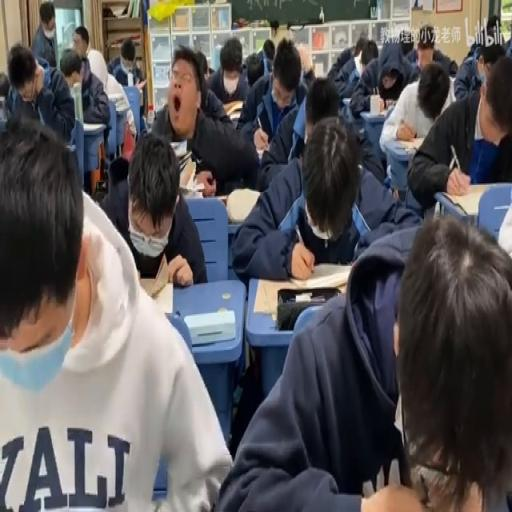calculator: (252, 270, 350, 314), (443, 180, 498, 214), (184, 308, 234, 342), (226, 186, 260, 225), (144, 277, 174, 316), (178, 154, 197, 189), (393, 135, 424, 152), (222, 100, 244, 120), (170, 138, 187, 159), (181, 184, 203, 199), (209, 192, 228, 208), (107, 91, 125, 107), (82, 118, 102, 132), (446, 74, 457, 98), (152, 42, 168, 58), (361, 110, 386, 120), (134, 77, 146, 91), (254, 144, 264, 160), (313, 60, 322, 77), (341, 94, 350, 105)
paper: (348, 206, 510, 511), (230, 106, 410, 284), (99, 132, 206, 286), (409, 51, 512, 209), (6, 41, 72, 144), (331, 35, 379, 104), (206, 37, 248, 109), (408, 24, 455, 81), (302, 74, 339, 141), (106, 33, 144, 91), (30, 0, 57, 68), (497, 188, 512, 260), (378, 68, 404, 106), (480, 43, 505, 71), (245, 51, 264, 87), (71, 26, 88, 60), (398, 27, 414, 55), (485, 14, 501, 41), (194, 50, 208, 78), (38, 57, 50, 88), (262, 38, 276, 62), (300, 64, 314, 87), (354, 36, 367, 58), (0, 71, 9, 101), (466, 38, 480, 57), (505, 26, 512, 55), (448, 57, 458, 75), (410, 46, 417, 61)
person: (356, 125, 366, 142)
